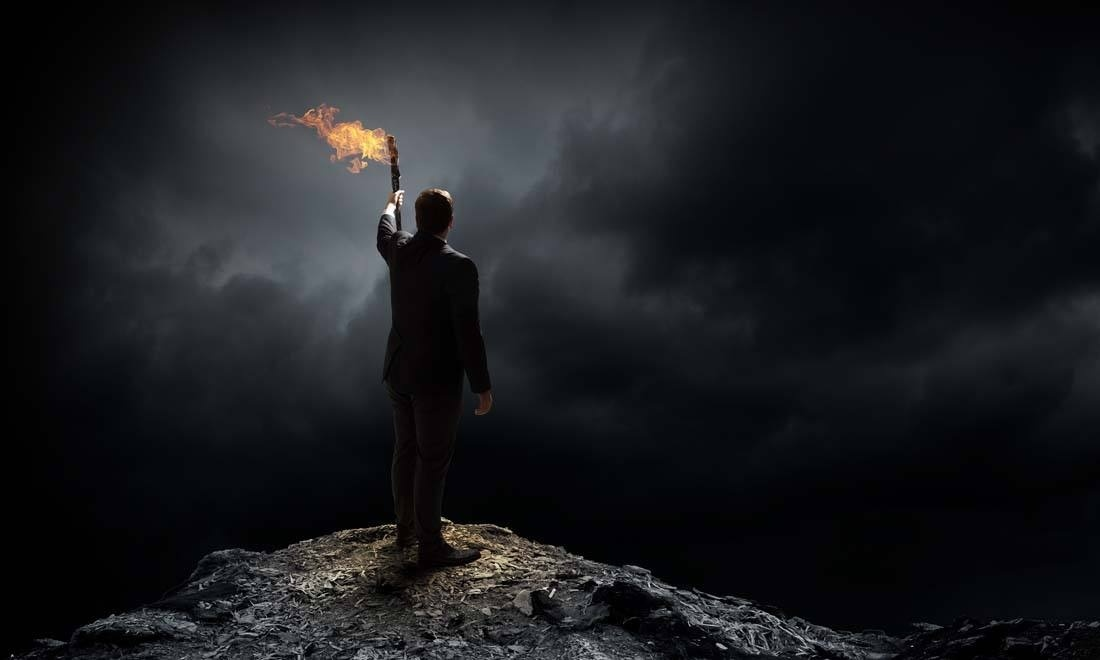fire: (275, 98, 397, 172)
